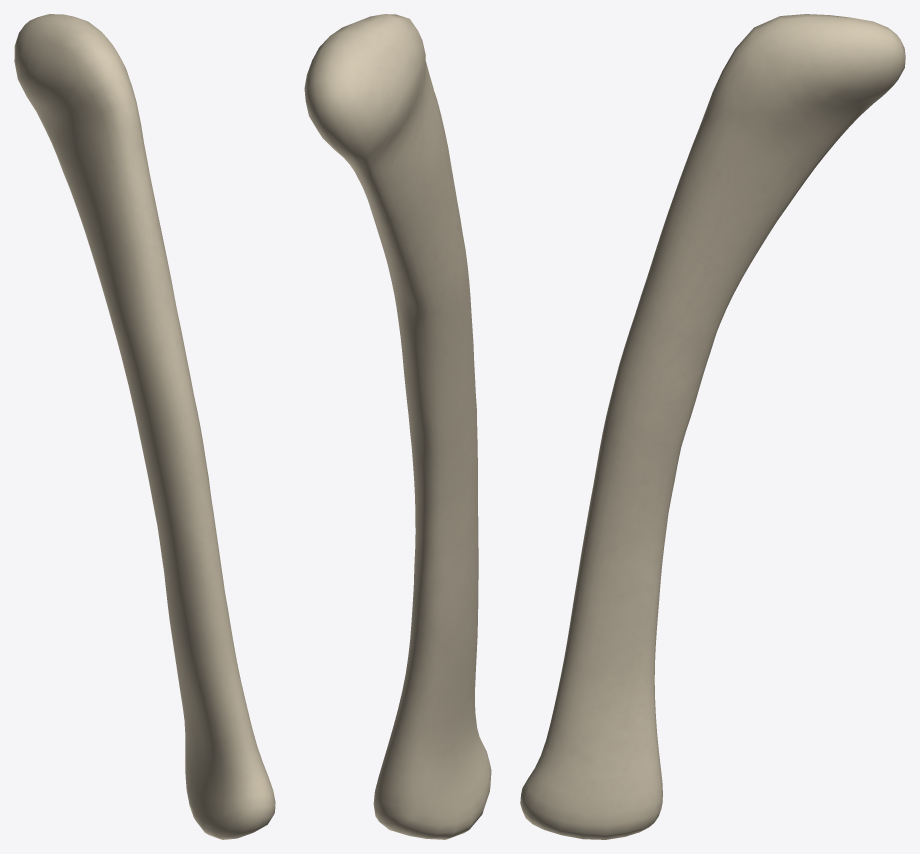
File: L metacarpi quartum.fbx
3 views of the same model, side by side, from view 1: azimuth 30°, elevation 25°; view 2: azimuth 150°, elevation 25°; view 3: azimuth 270°, elevation 25° (orthographic). The views are drawn at different scales.
Visible parts, largest first — view 1: L metacarpi quartum; view 2: L metacarpi quartum; view 3: L metacarpi quartum.
Boxes of the visible parts, left/top/right/bottom form: L metacarpi quartum: left=14, top=14, right=275, bottom=839; L metacarpi quartum: left=304, top=14, right=491, bottom=839; L metacarpi quartum: left=520, top=14, right=905, bottom=839.
Bounding box in the file's own units: 2.09 × 12.36 × 5.42.
